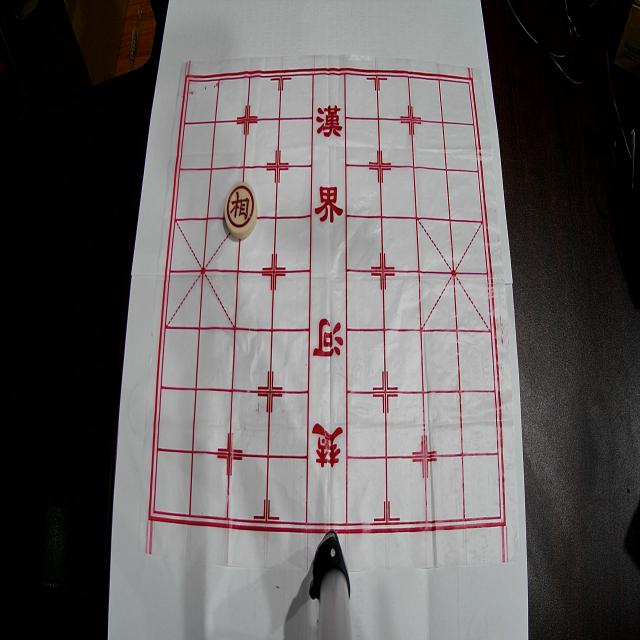red-elephant: (225, 182, 258, 239)
